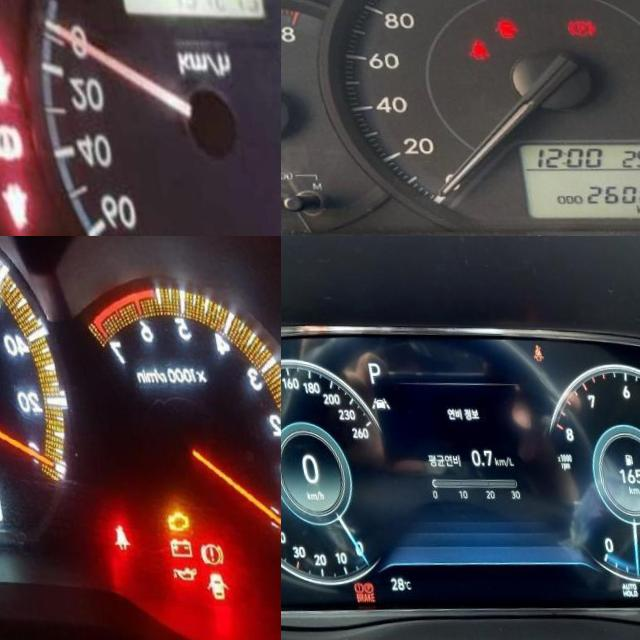LaneCenteringOff: (361, 394, 380, 408)
Seat Belt: (0, 180, 21, 231), (454, 38, 479, 62), (99, 522, 117, 549)
